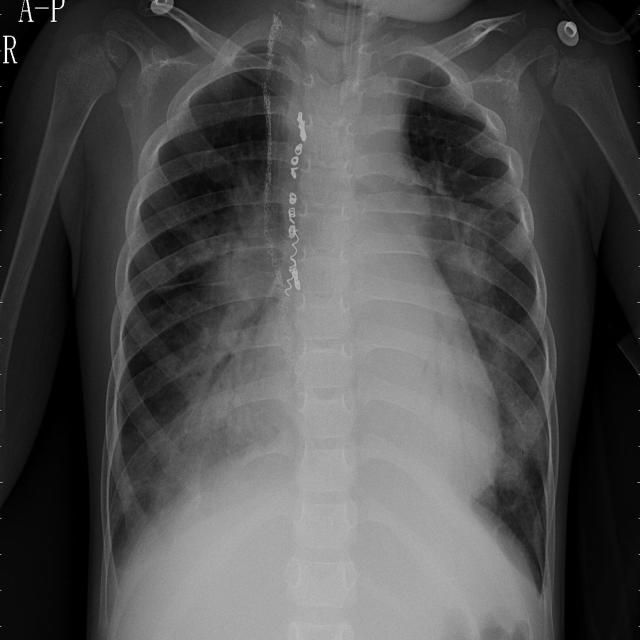high-pneumonia: (421, 172, 552, 502), (155, 177, 282, 506)
